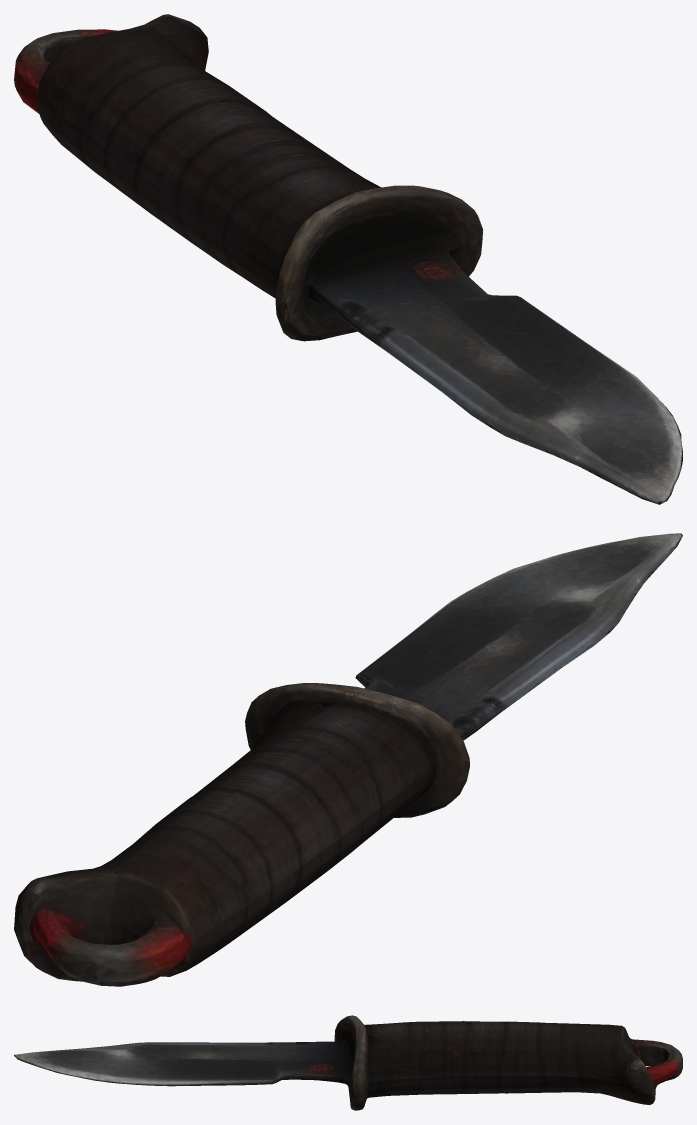
Rendered from knife3d.glb.
The picture shows the model from 3 angles, top to bottom: view 1: azimuth 30°, elevation 25°; view 2: azimuth 150°, elevation 25°; view 3: azimuth 270°, elevation 25°; orthographic projection. The views are drawn at different scales.
Visible parts, largest first — view 1: world; view 2: world; view 3: world.
Boxes of the visible parts, box(x1,y1,x2,y2) form: world: box(14, 14, 682, 504); world: box(14, 533, 682, 986); world: box(14, 1015, 682, 1110).
Size of the model in its own units: 0.2029 by 0.1176 by 0.9977.
Materials: 1 (1 with a texture image).
